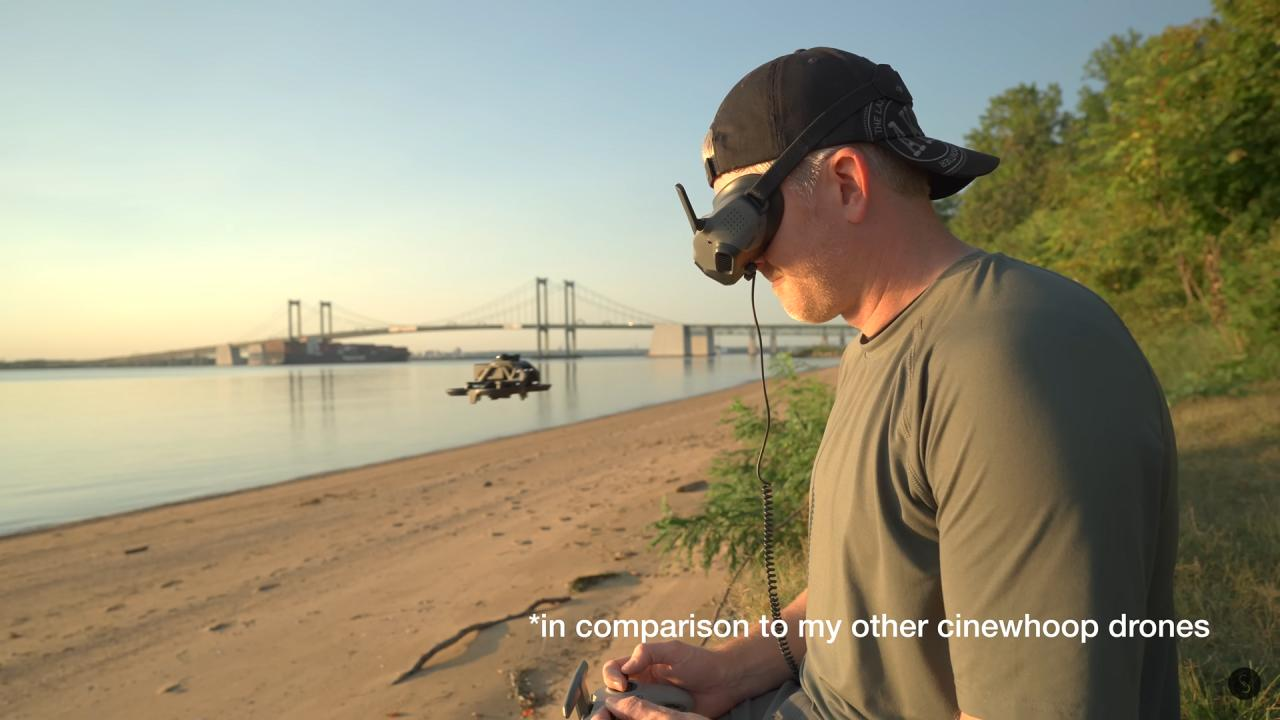Drone: (433, 342, 565, 417)
